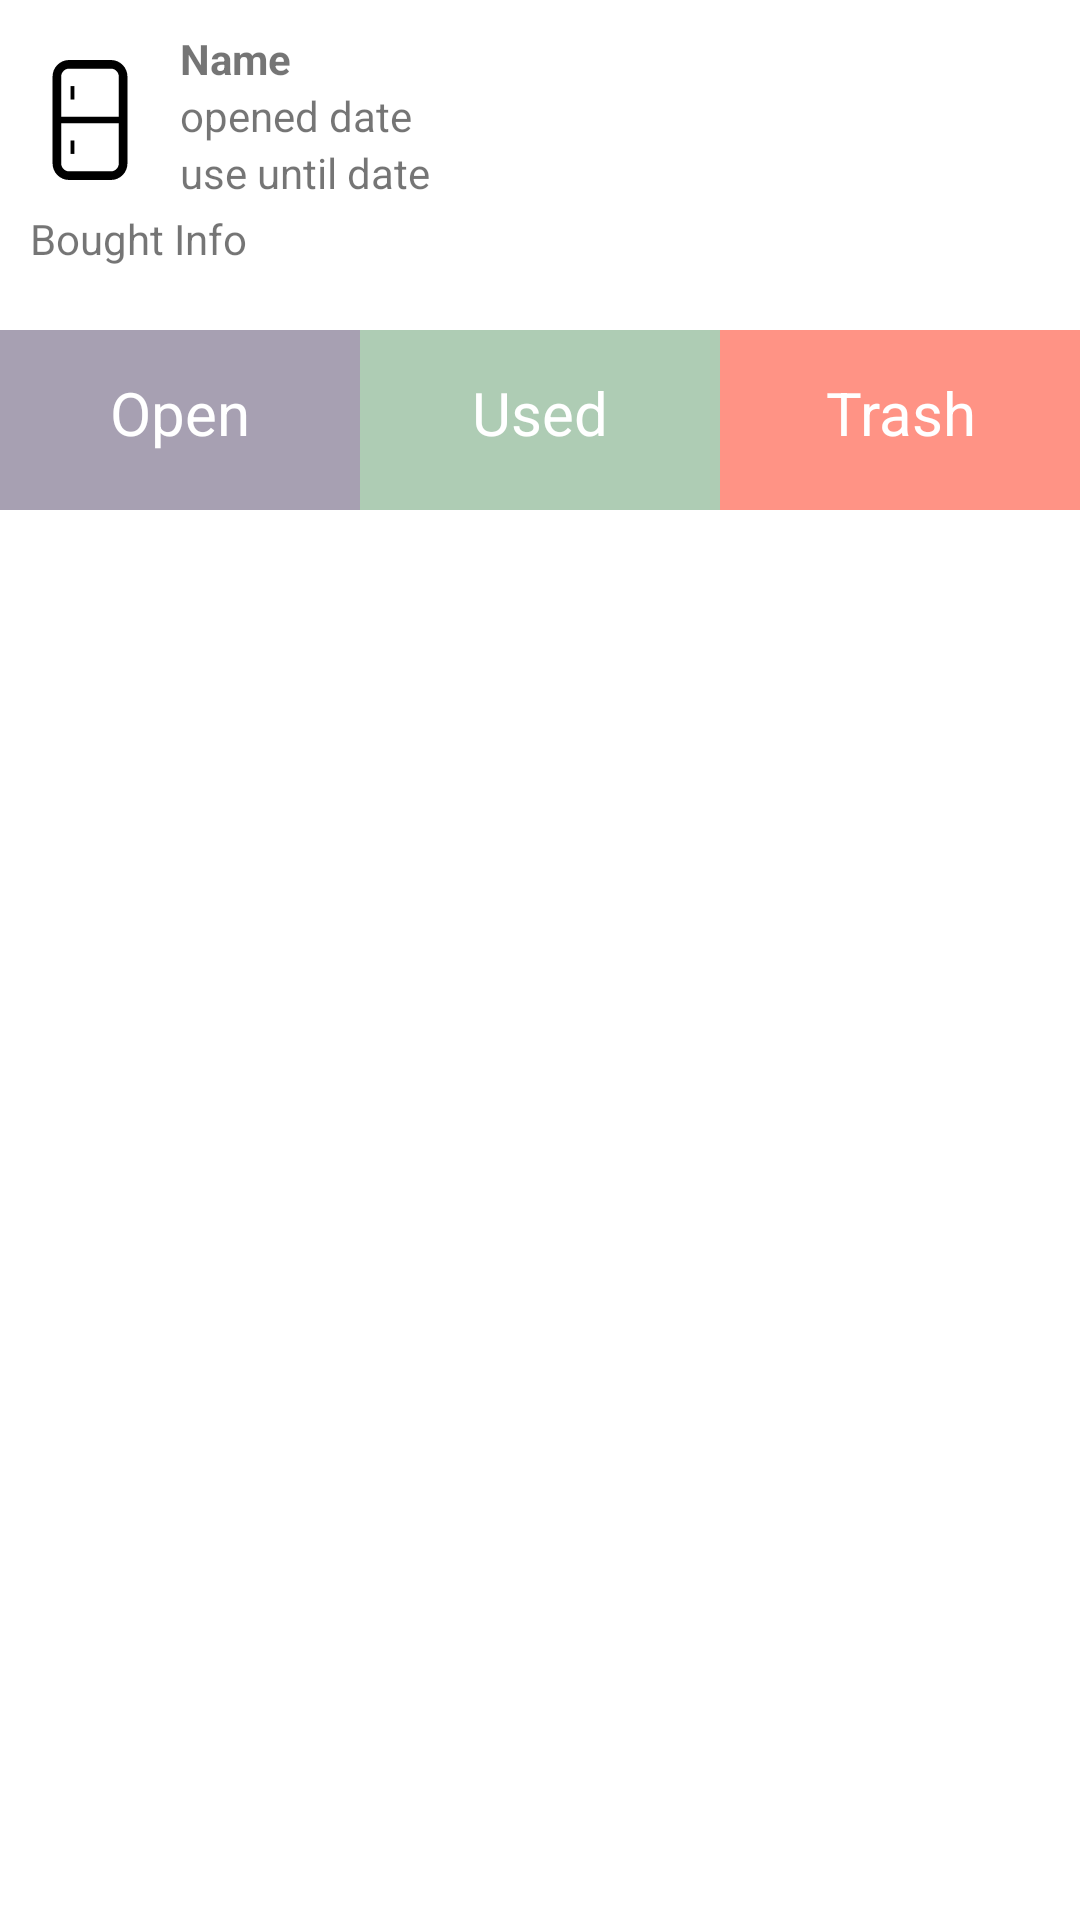

Where to tap for icons on this 1080 x 1920 app screen, as point (x, y):
fridge empty: point (90, 120)
